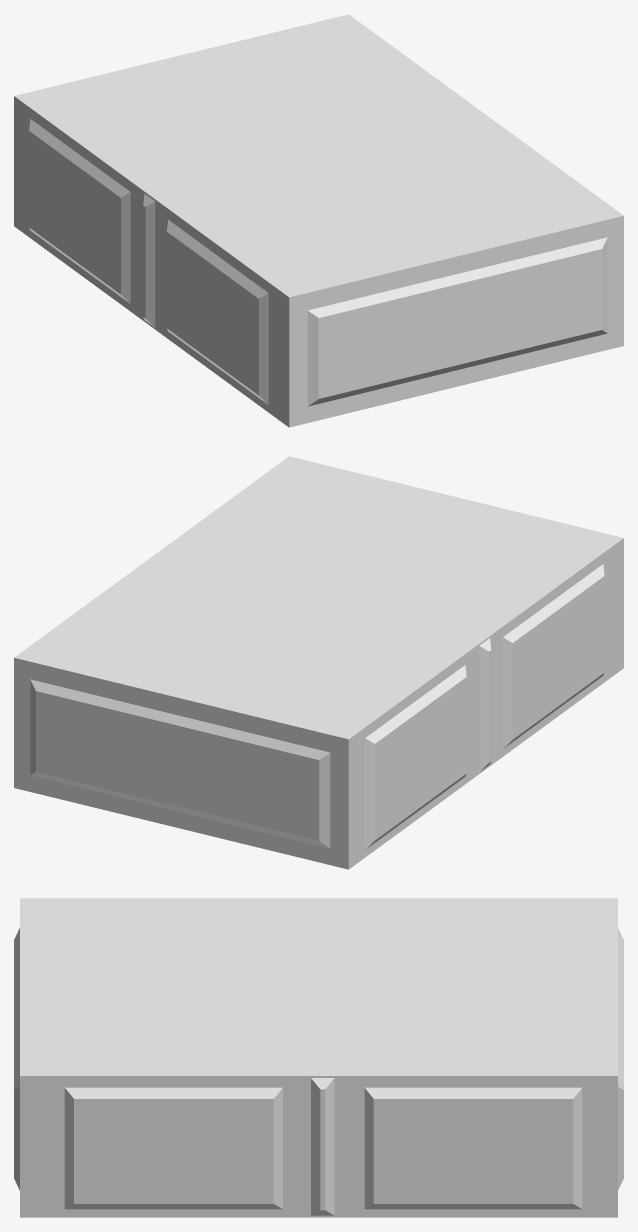
File: Itr_Bed_Double_Body_04.FBX
The picture shows the model from 3 angles, top to bottom: view 1: azimuth 30°, elevation 25°; view 2: azimuth 150°, elevation 25°; view 3: azimuth 270°, elevation 25°; orthographic projection. The views are drawn at different scales.
Visible parts, largest first — view 1: Itr_Bed_Double_Body_04; view 2: Itr_Bed_Double_Body_04; view 3: Itr_Bed_Double_Body_04.
Boxes of the visible parts, left/top/right/bottom form: Itr_Bed_Double_Body_04: left=14, top=14, right=623, bottom=427; Itr_Bed_Double_Body_04: left=14, top=456, right=623, bottom=869; Itr_Bed_Double_Body_04: left=14, top=898, right=623, bottom=1217.
Size of the model in its own units: 65.62 by 23.62 by 92.26.
